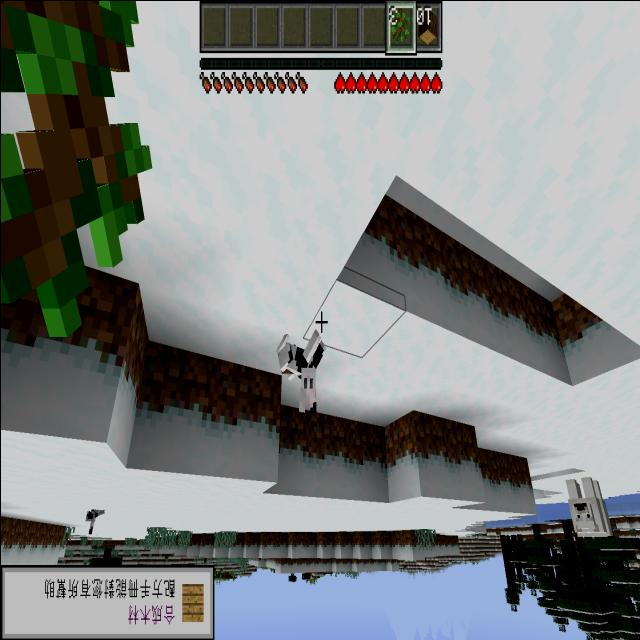Polar Bear: (554, 466, 620, 555)
